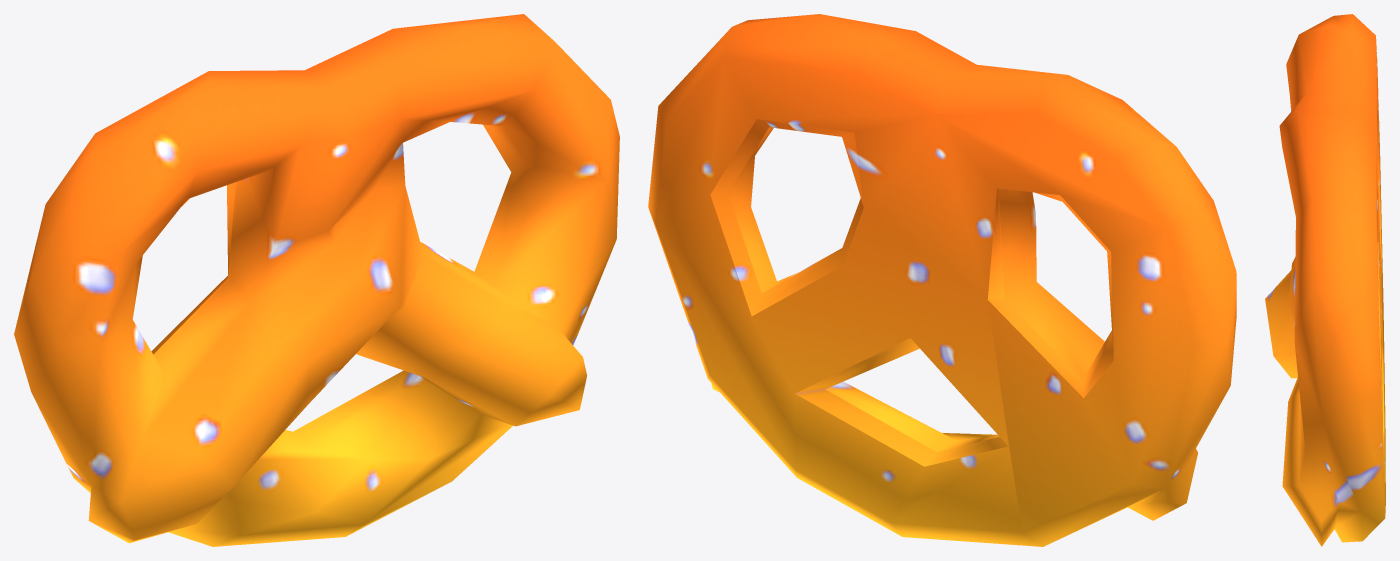
Rendered from orange_pretzel.glb.
3 renders of one model, left to right at view 1: azimuth 30°, elevation 25°; view 2: azimuth 150°, elevation 25°; view 3: azimuth 270°, elevation 25°, orthographic. The views are drawn at different scales.
Parts seen in each view (by area): view 1: orange_pretzel; view 2: orange_pretzel; view 3: orange_pretzel.
Boxes of the visible parts, box(x1,y1,x2,y2) form: orange_pretzel: box(14, 14, 619, 546); orange_pretzel: box(648, 14, 1236, 546); orange_pretzel: box(1265, 14, 1385, 546).
Bounding box in the file's own units: 0.7536 × 0.6026 × 0.1516.
1 material, 1 textured.
